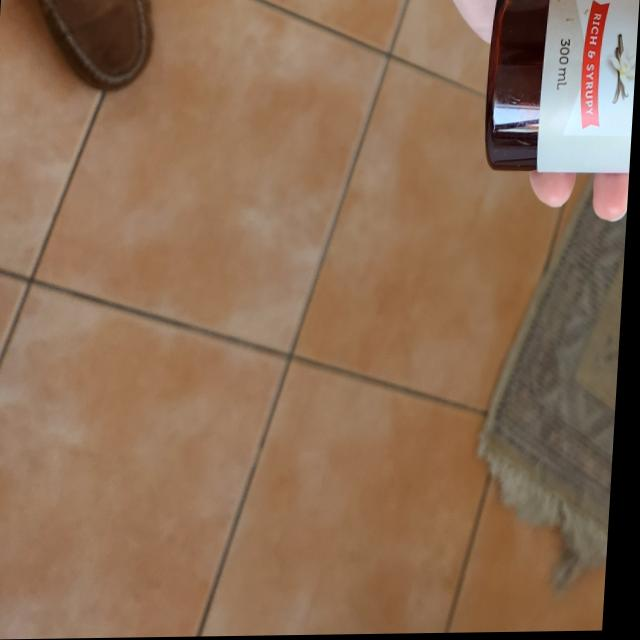vanilla: (481, 0, 640, 177)
